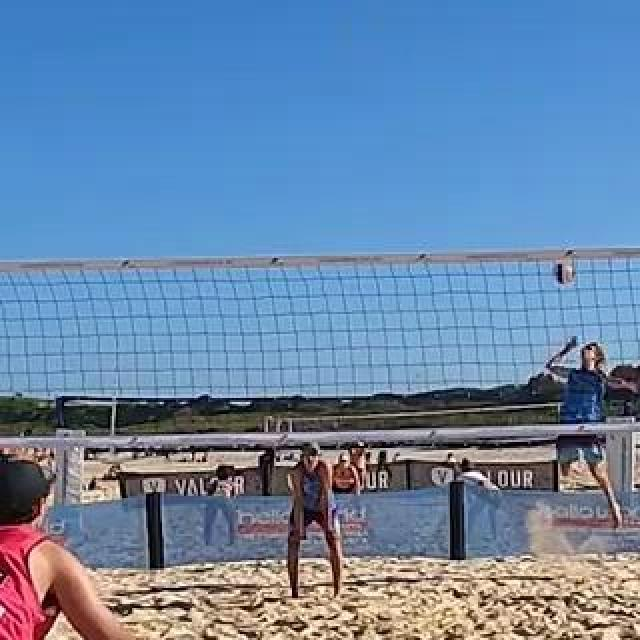volleyball: (555, 262, 575, 284)
